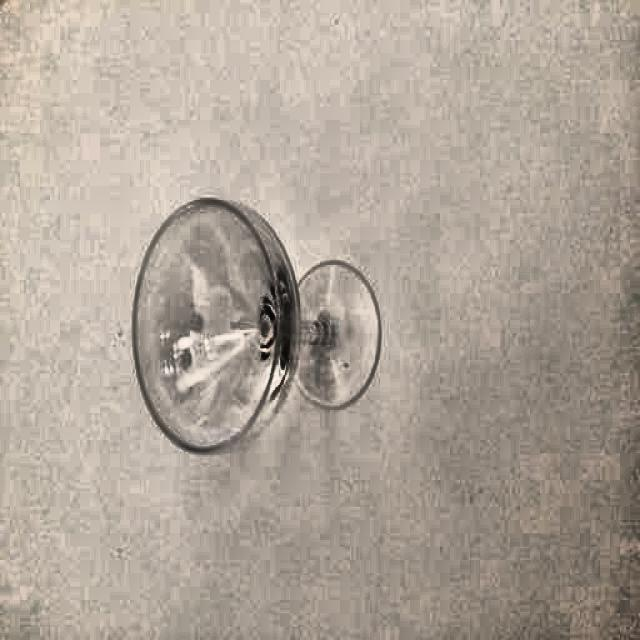glass: (134, 198, 380, 454)
